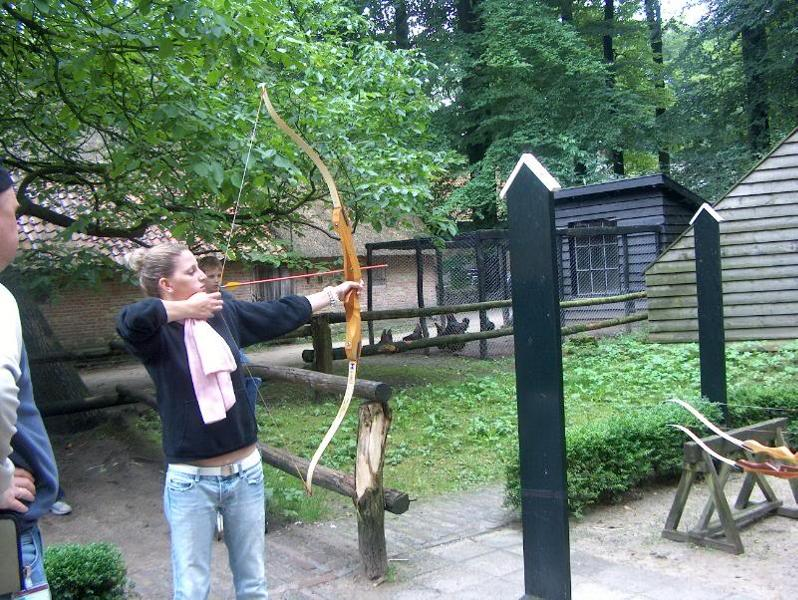person: (118, 242, 364, 600)
